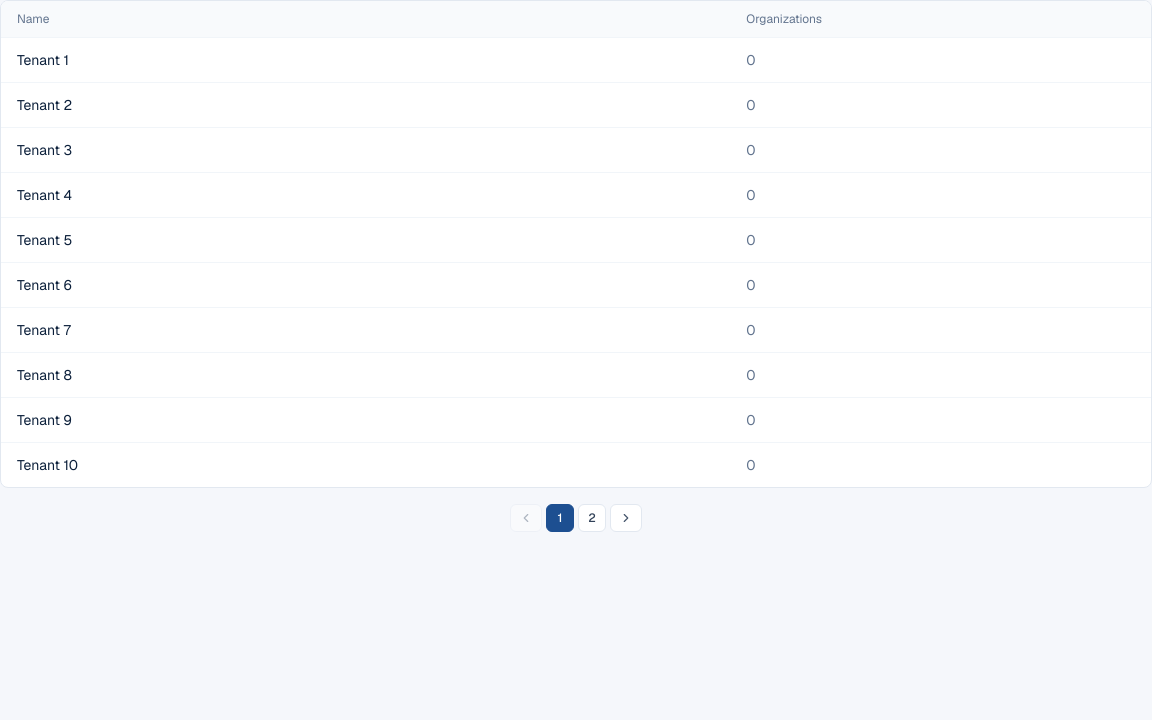
Test case: TenantsTable › shows ten tenants per page and the rest on page 2
Expected: the link "Tenant 1 0" is shown, [1,37,1151,82]
Click the button "2" at {"x": 592, "y": 518}, box [578,504,606,532]
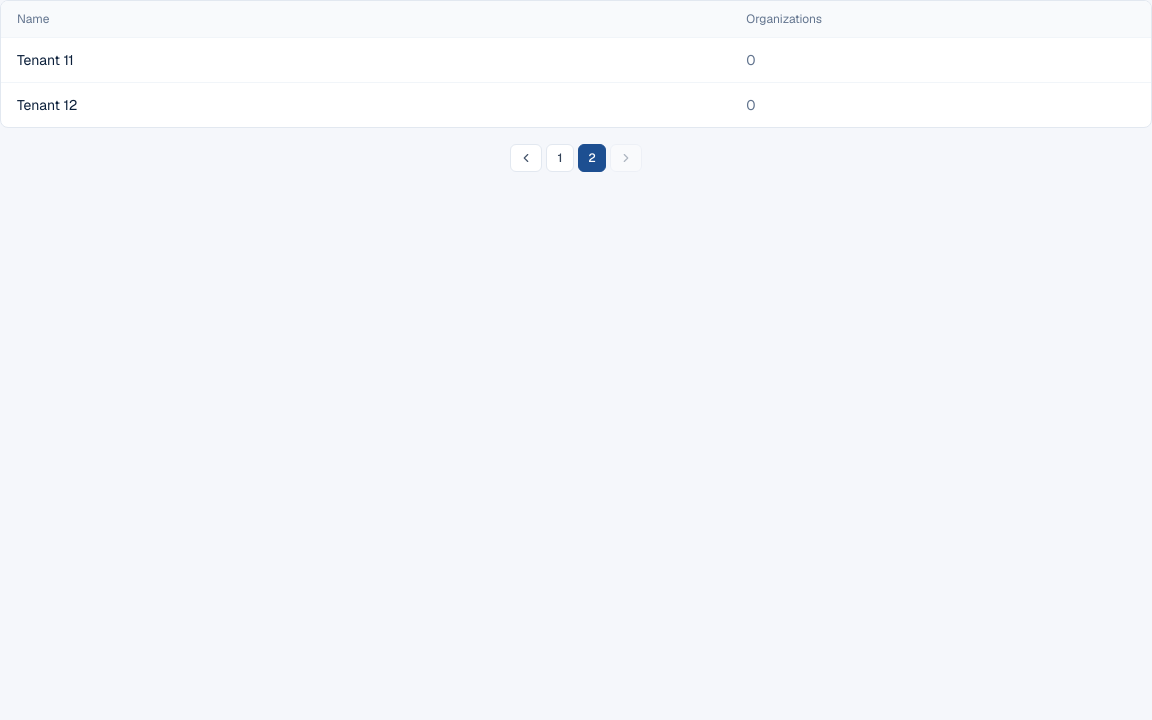
Now the link "Tenant 11 0" is shown, box [1,37,1151,82]
